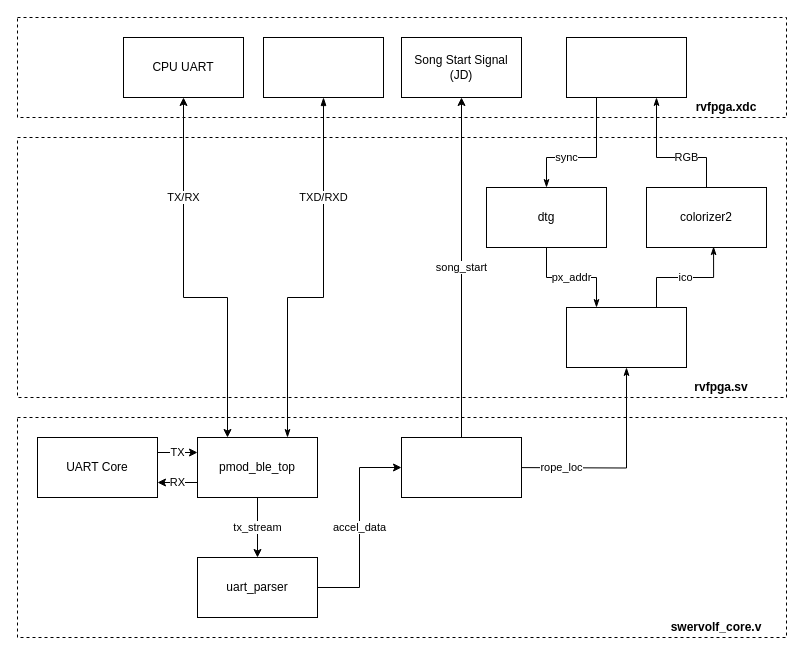
This 804x655 diagram has some shape labels left out. The shapes that lost their labels are listed below. From the top down, each one's centre as x and y in pixels, then its label:
pixel 323 67: BLE PMOD Signals (JA)
pixel 626 67: VGA Signals
pixel 626 337: rope
pixel 461 467: Peripheral Exposing Memory Locations
